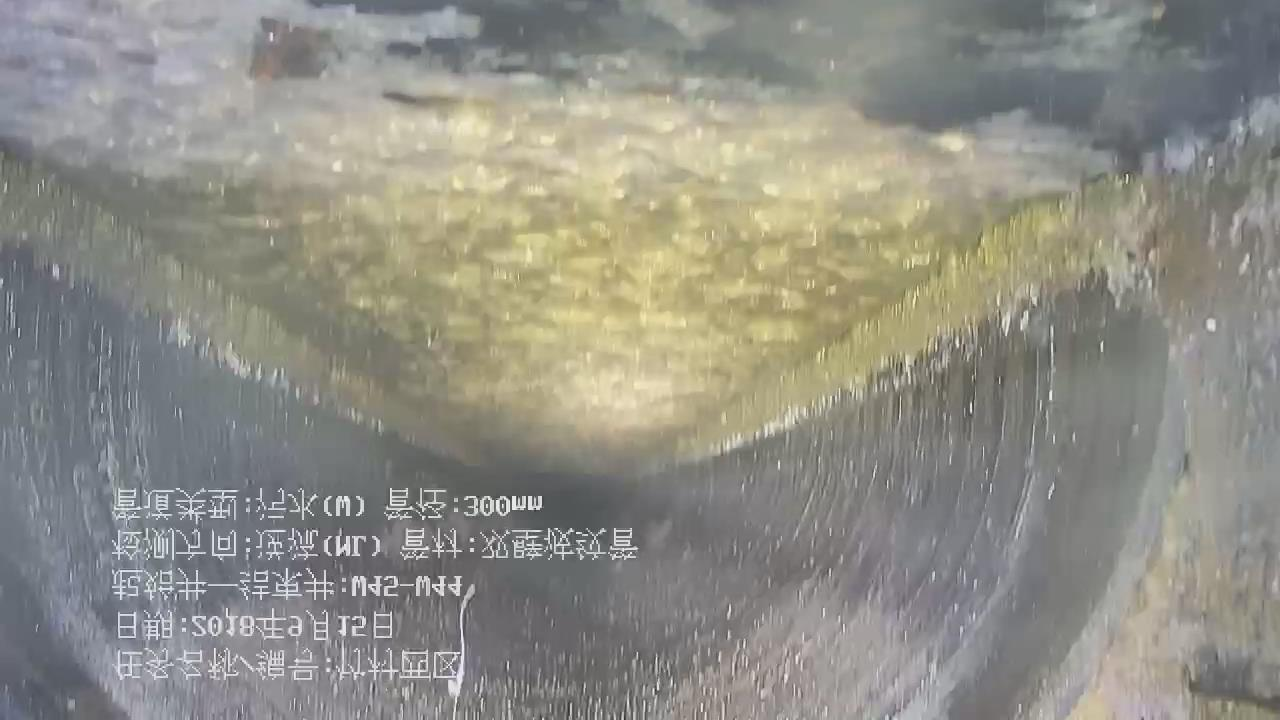FZ: (0, 1, 1279, 471)
